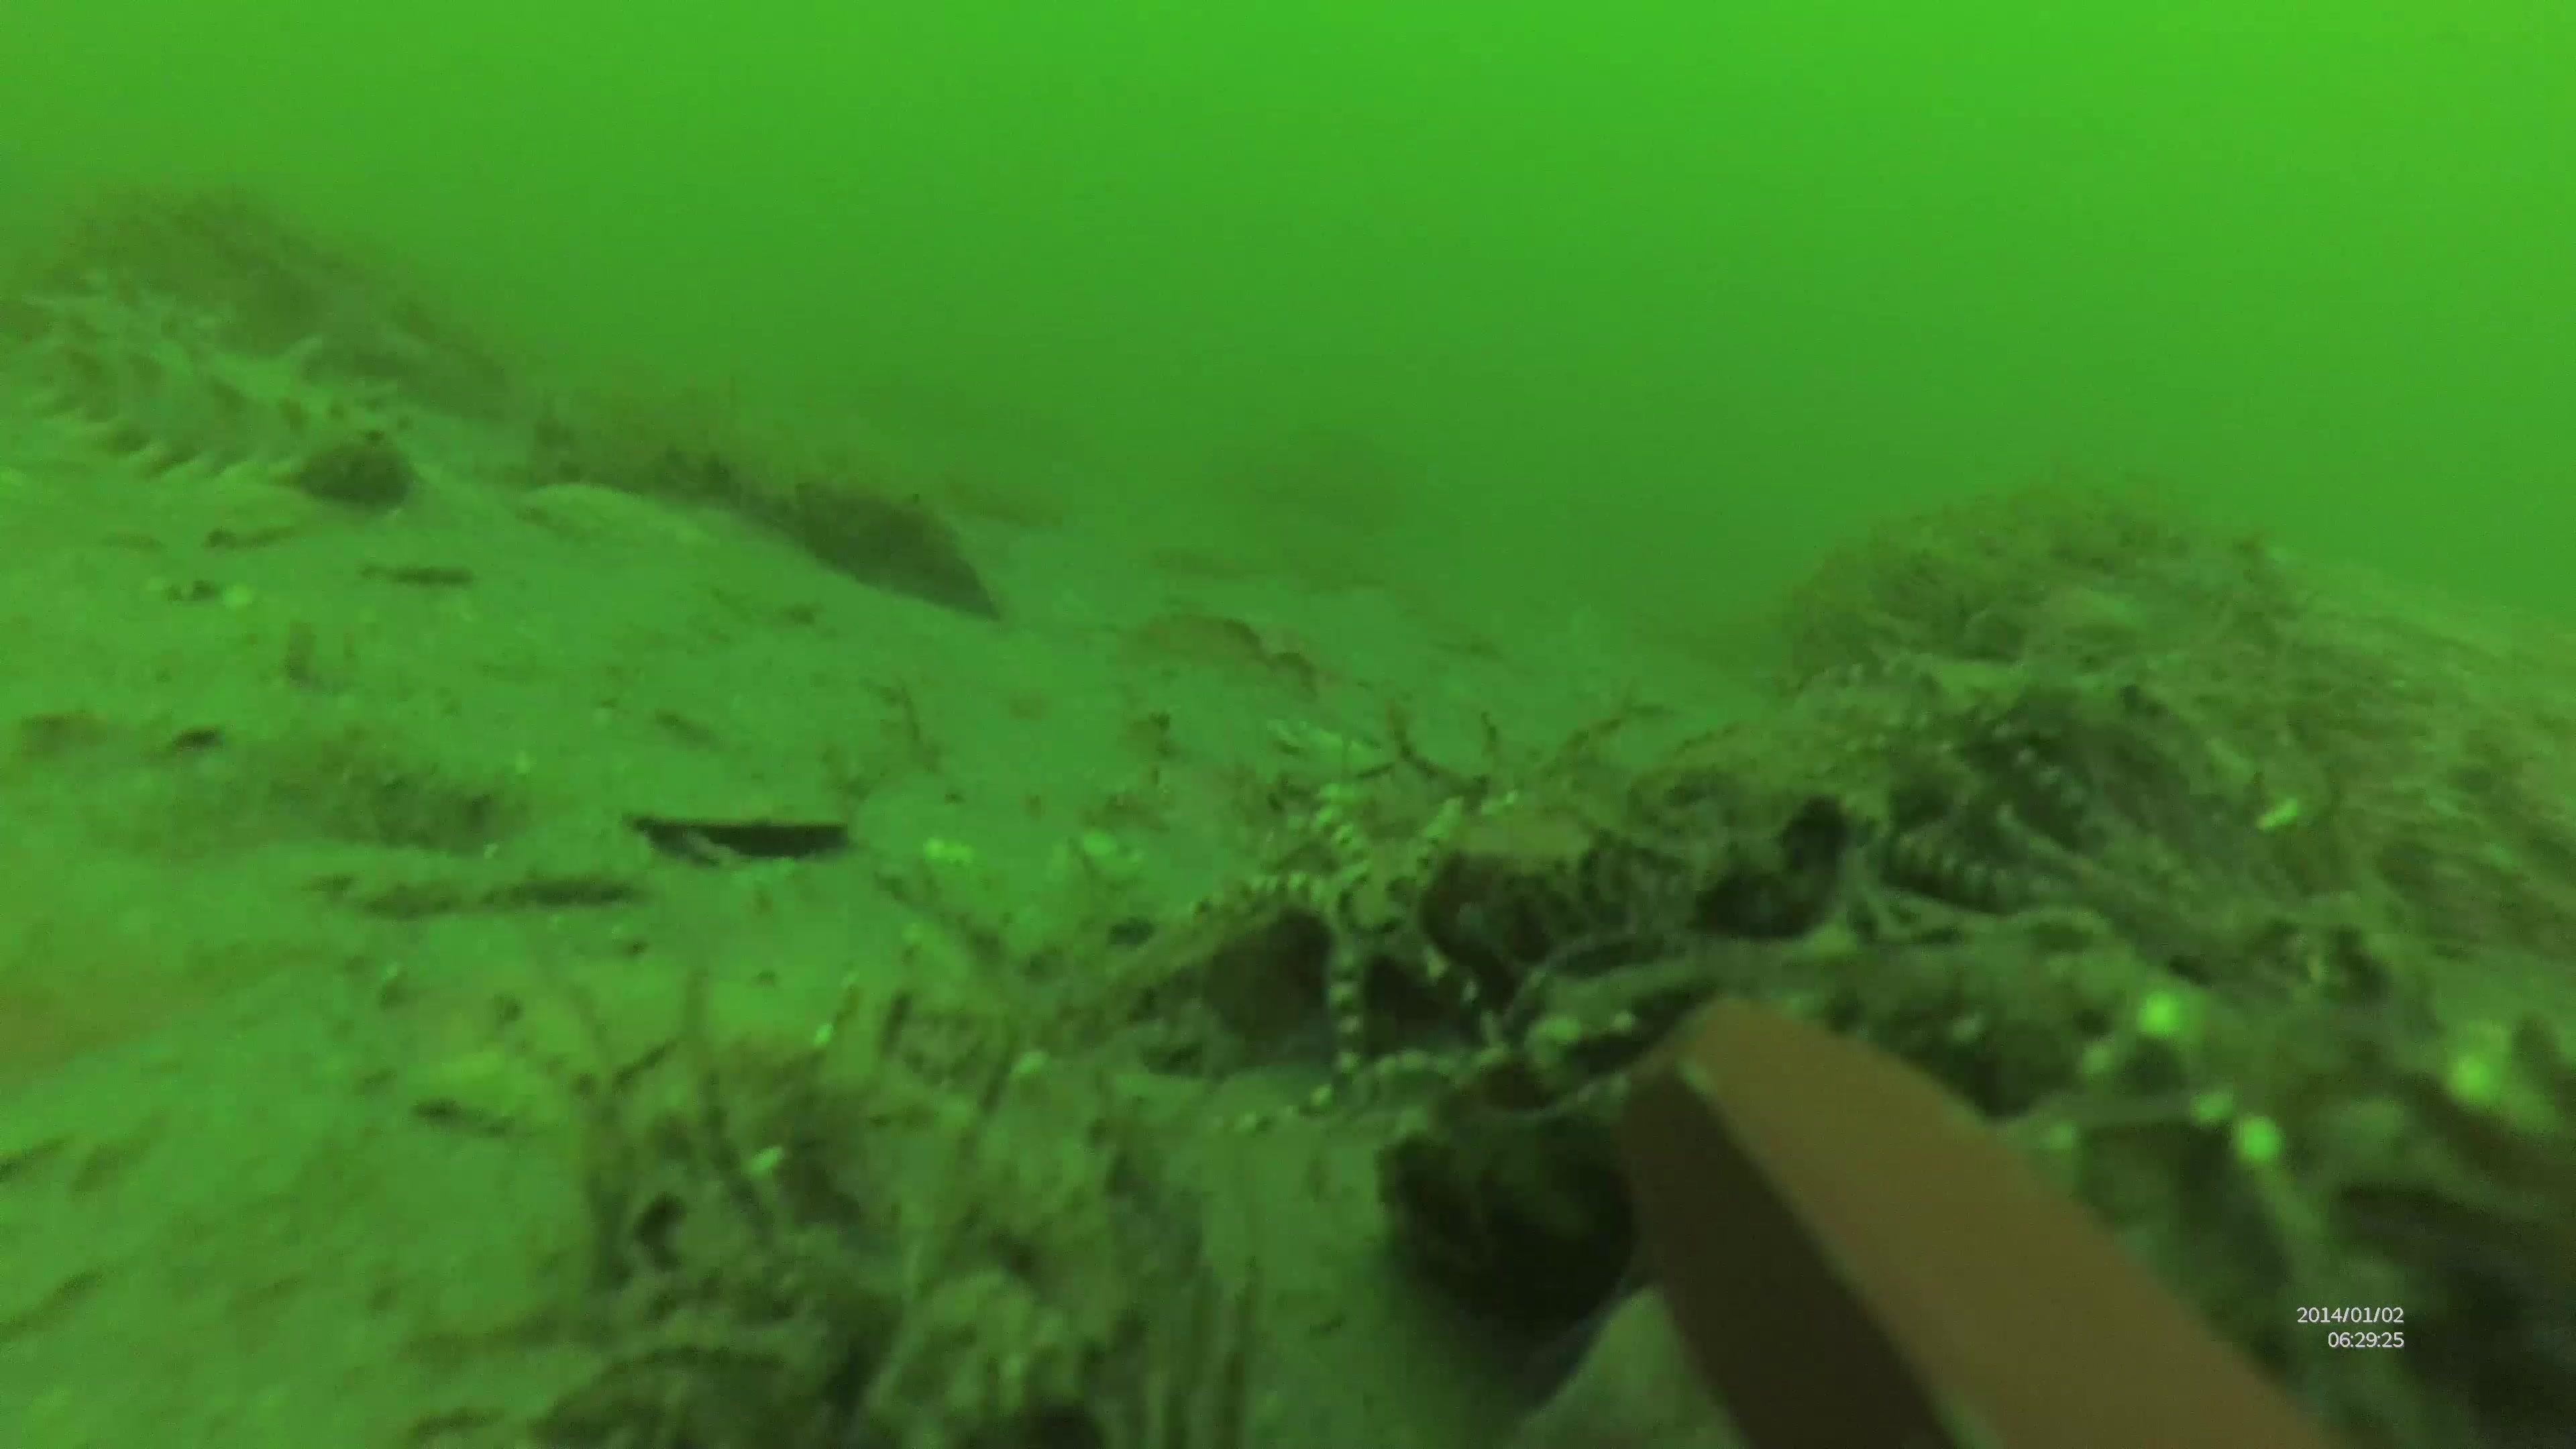holothurian: (0, 280, 416, 515)
starfish: (1240, 812, 1518, 1085)
